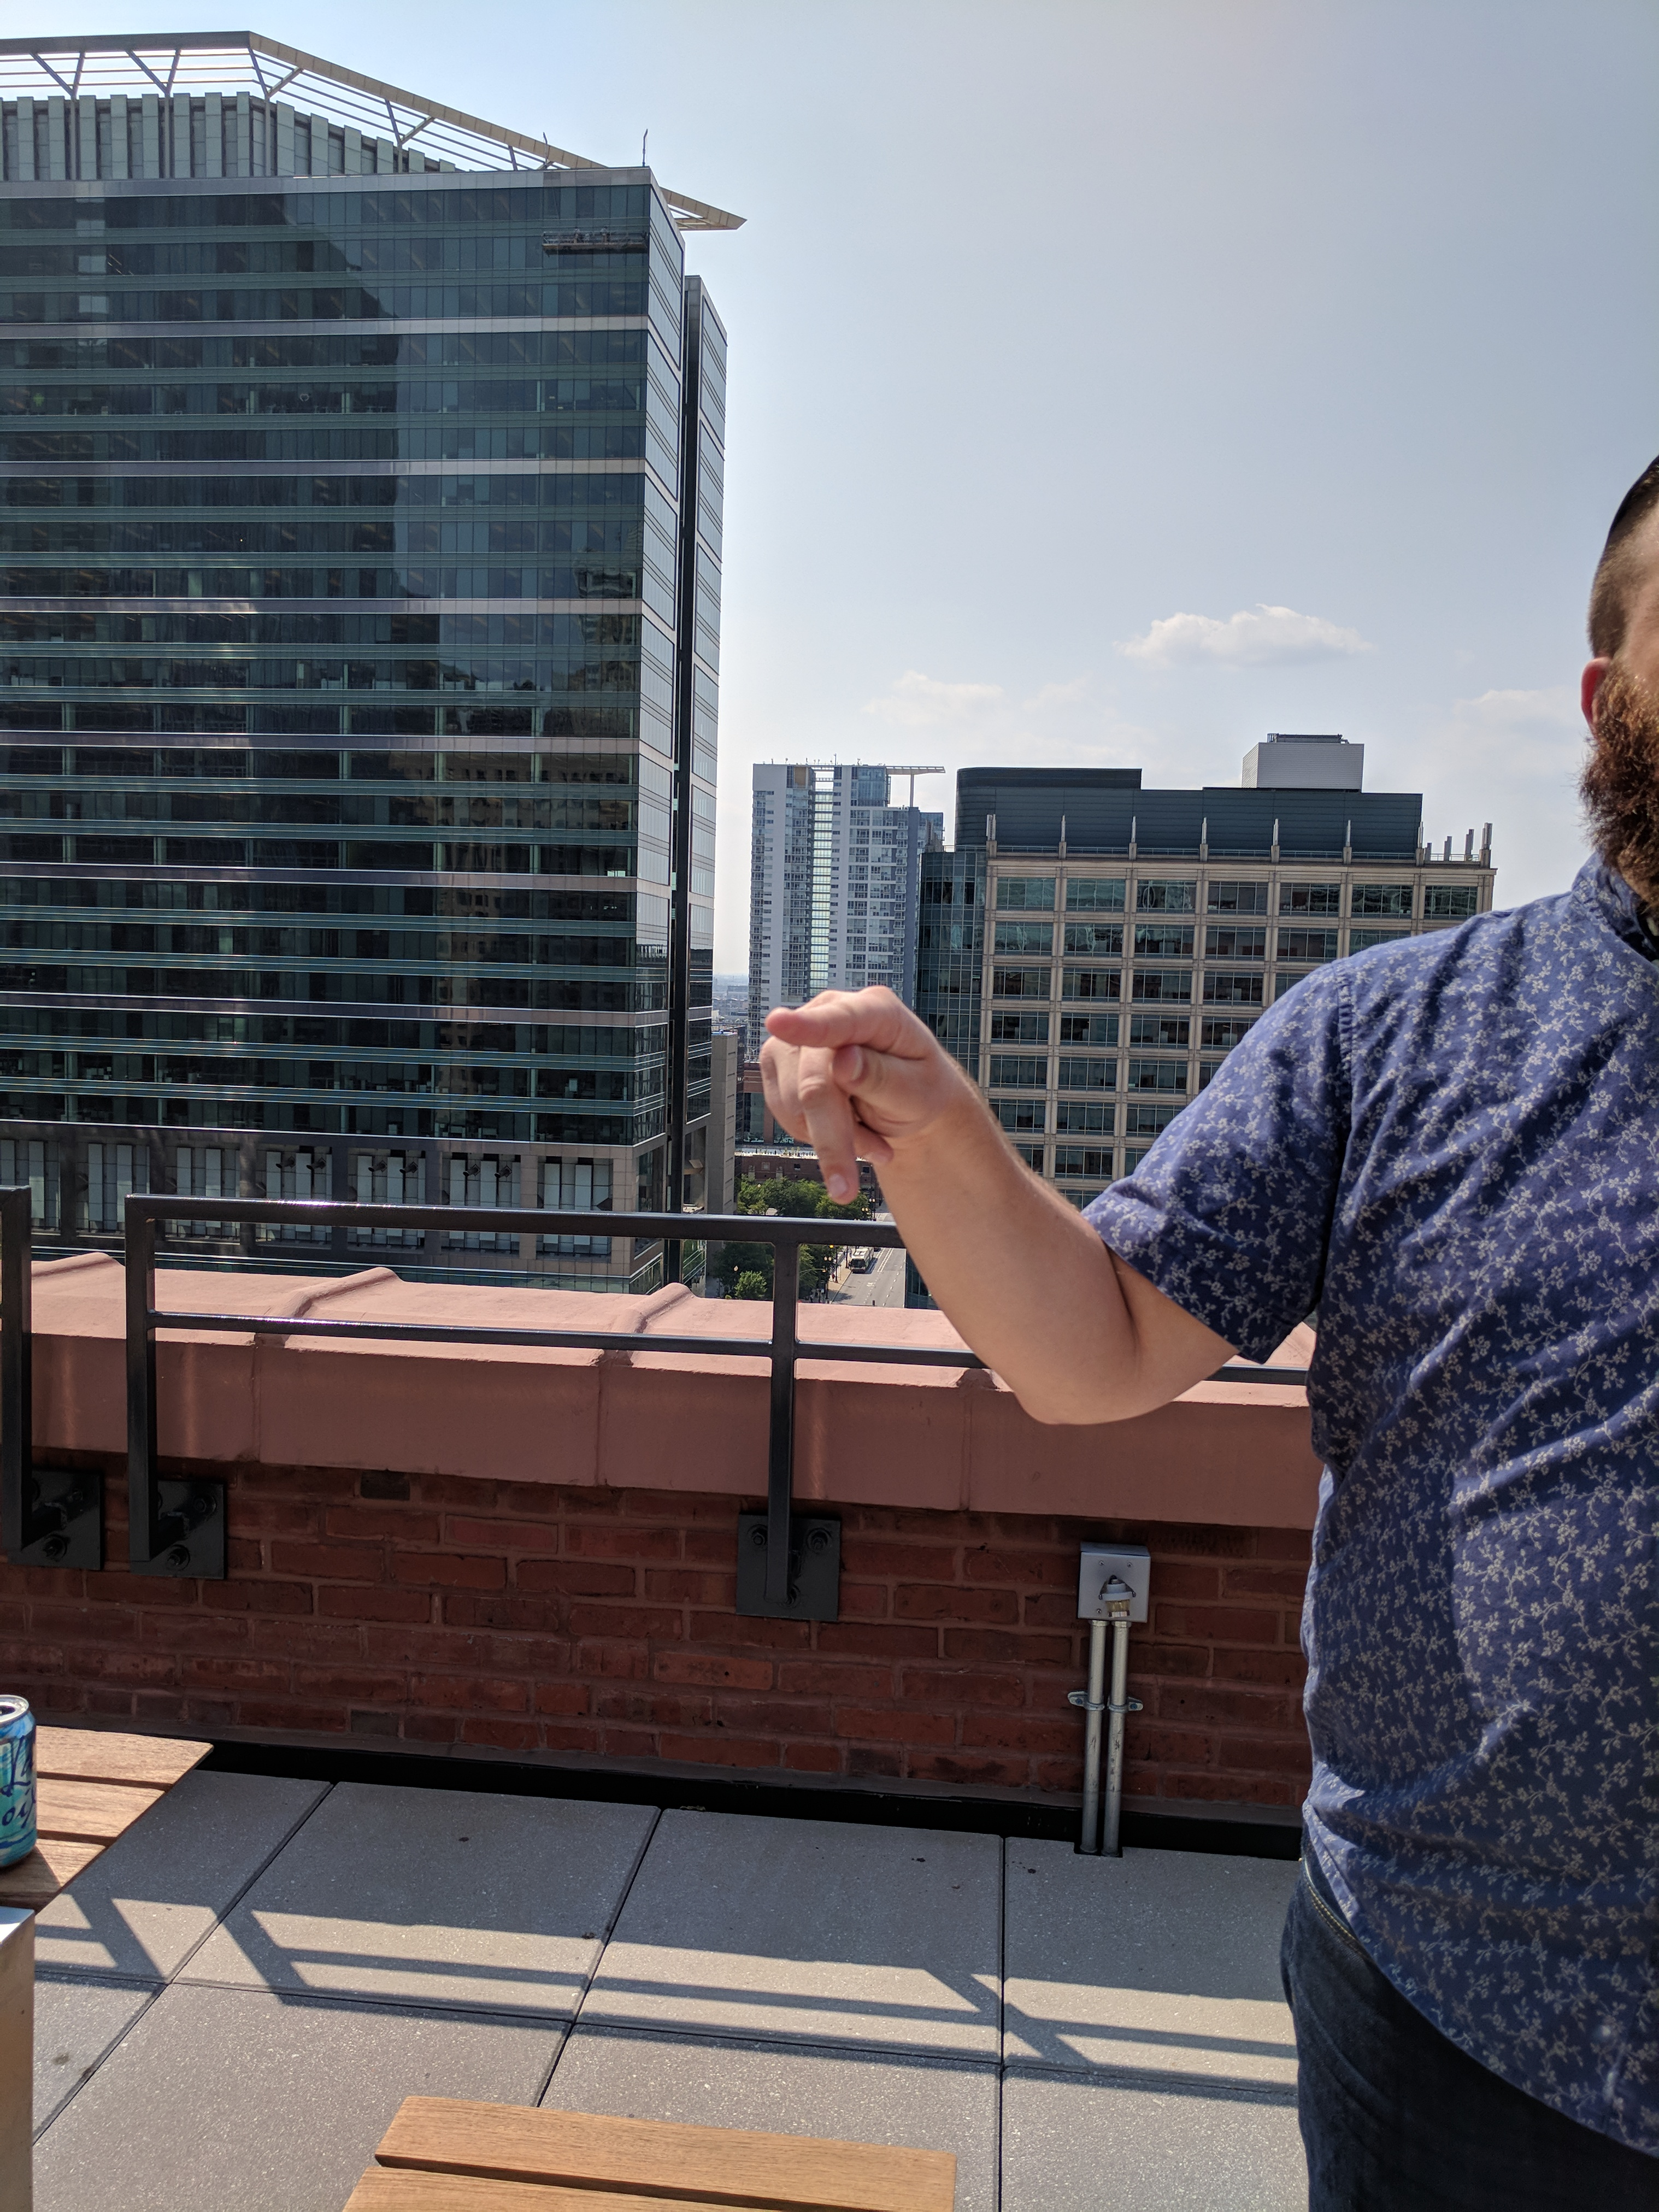p: (749, 981, 962, 1226)
